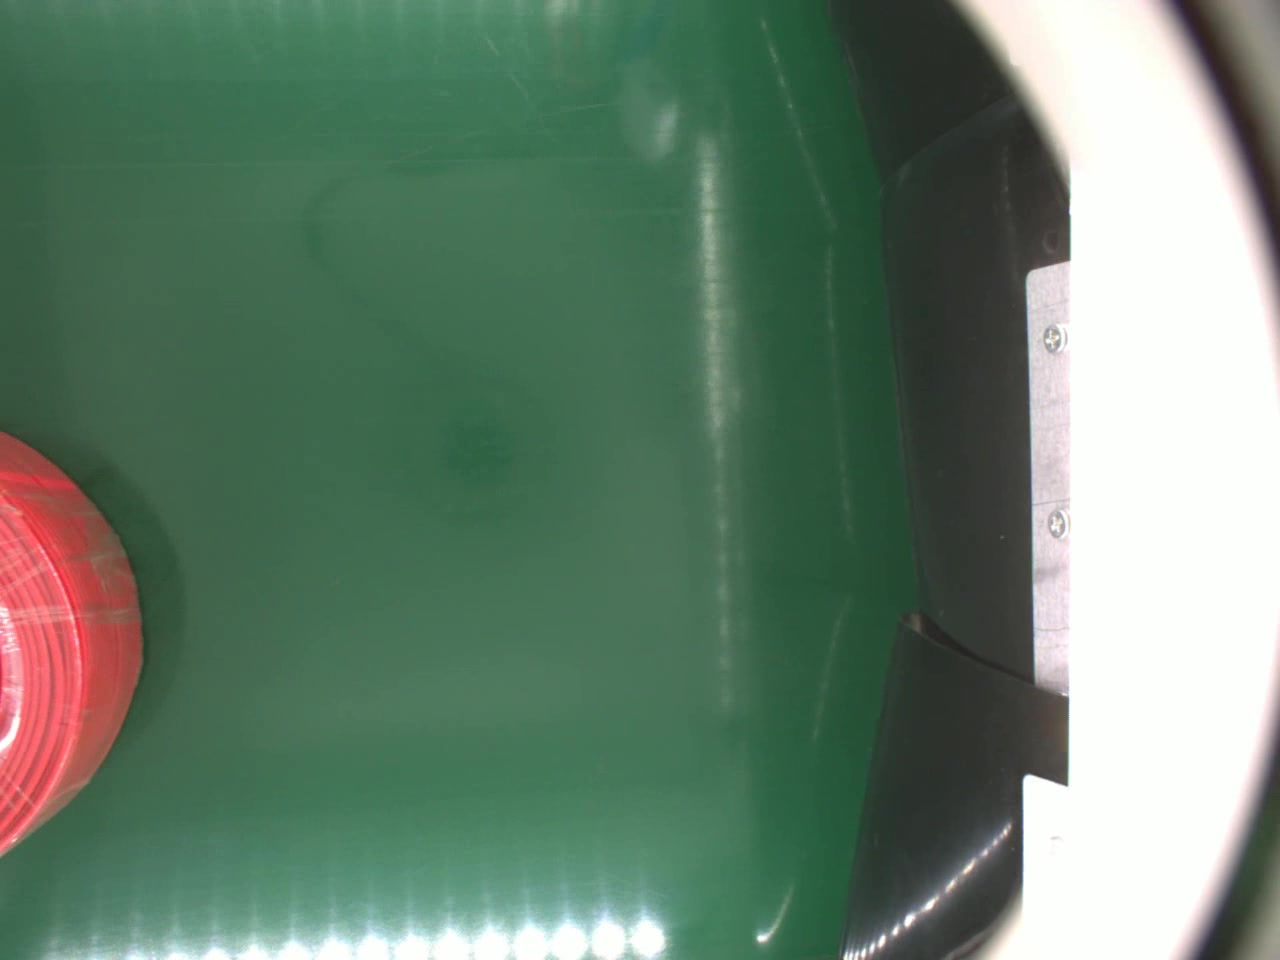red: (0, 429, 147, 857)
